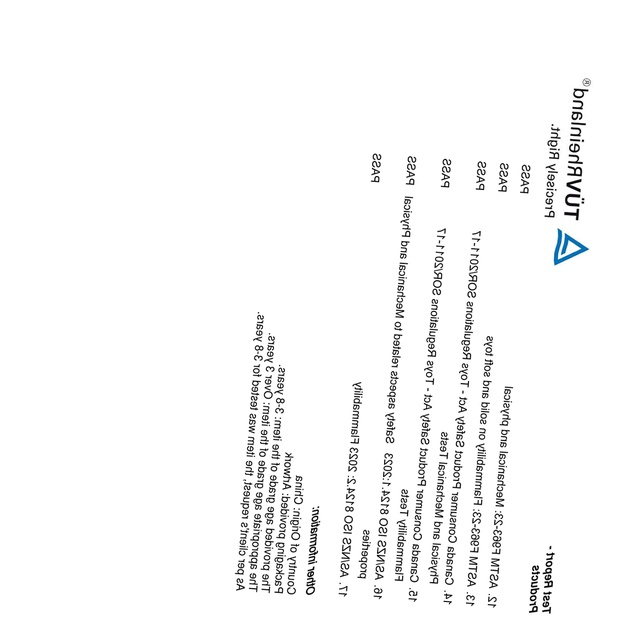tuv_rheinland: (549, 73, 592, 269)
